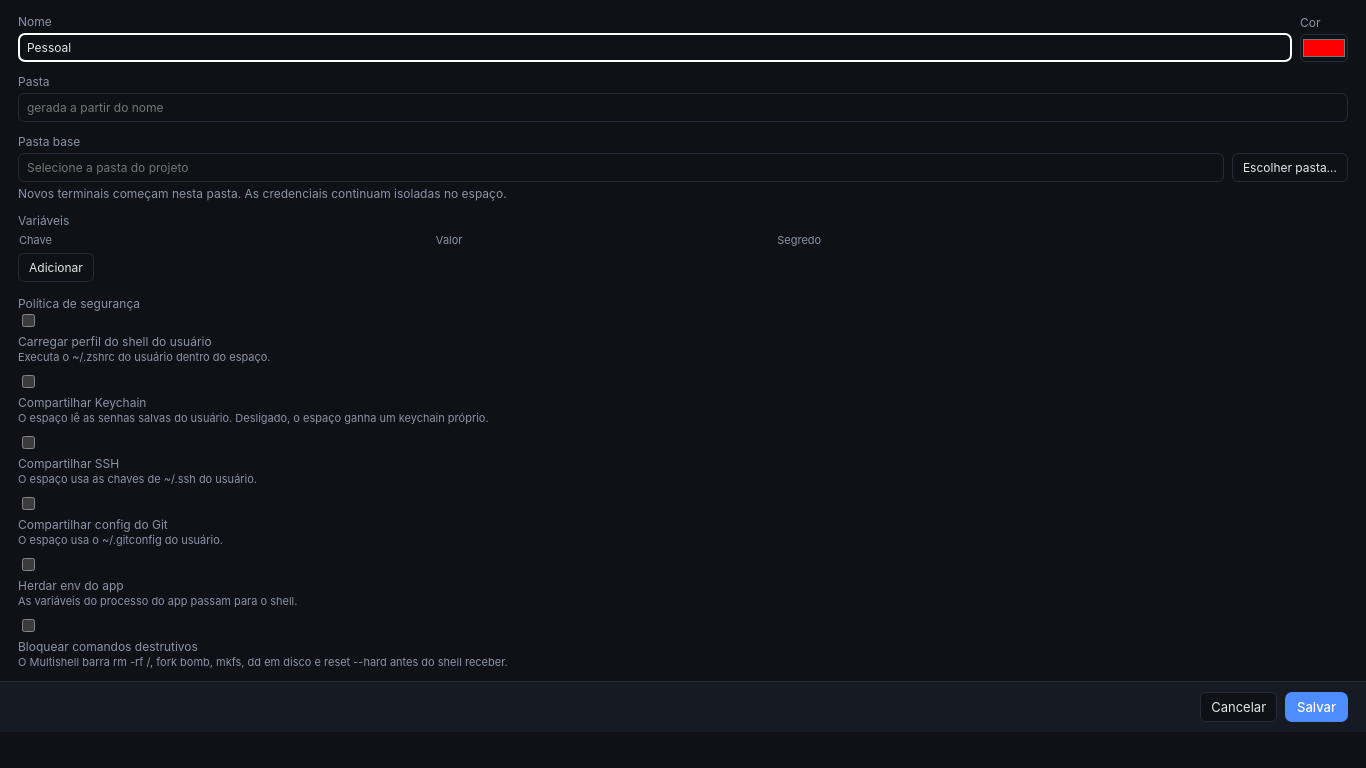
Scenario: space base folder picker › shows success feedback when saved successfully
Click the button "Salvar" at [1316, 707], box [1285,692,1348,722]
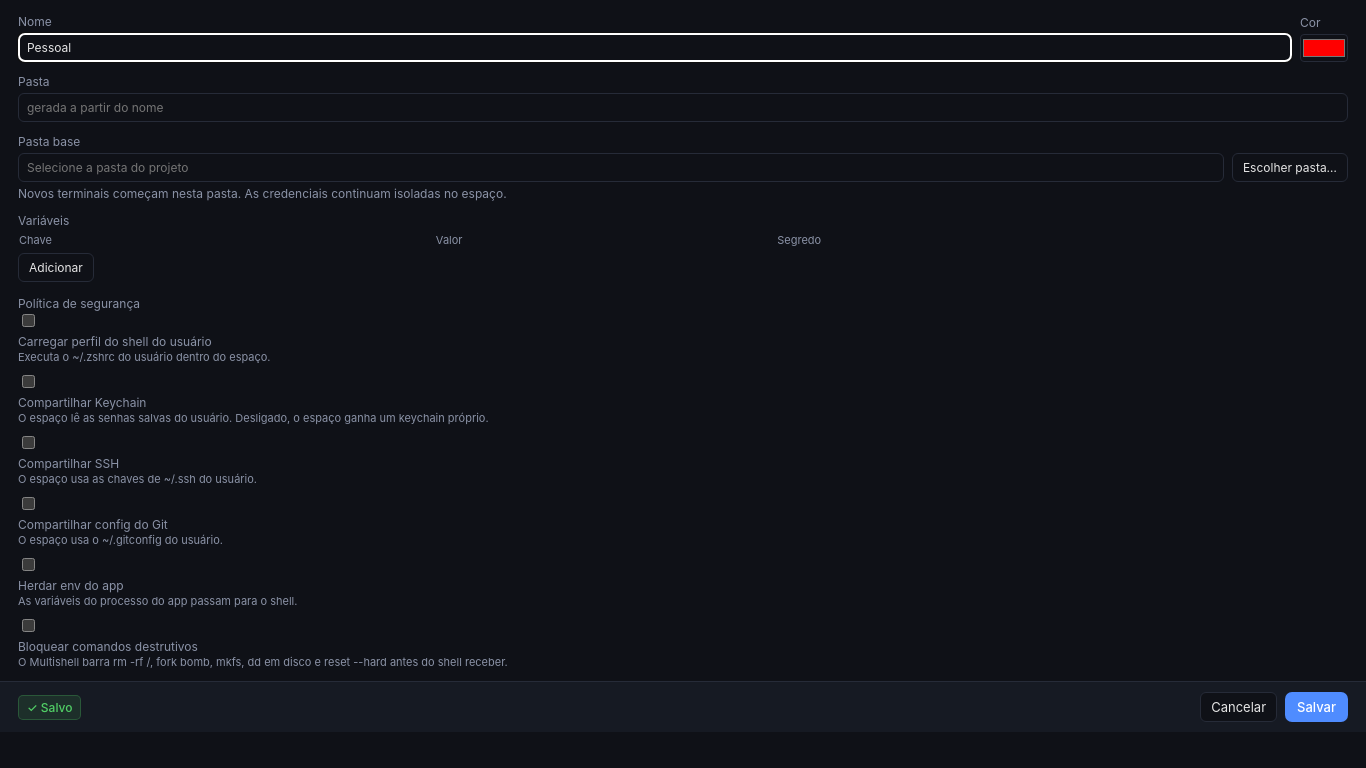
Expected: the message shows "Salvo", [41,700,72,714]
